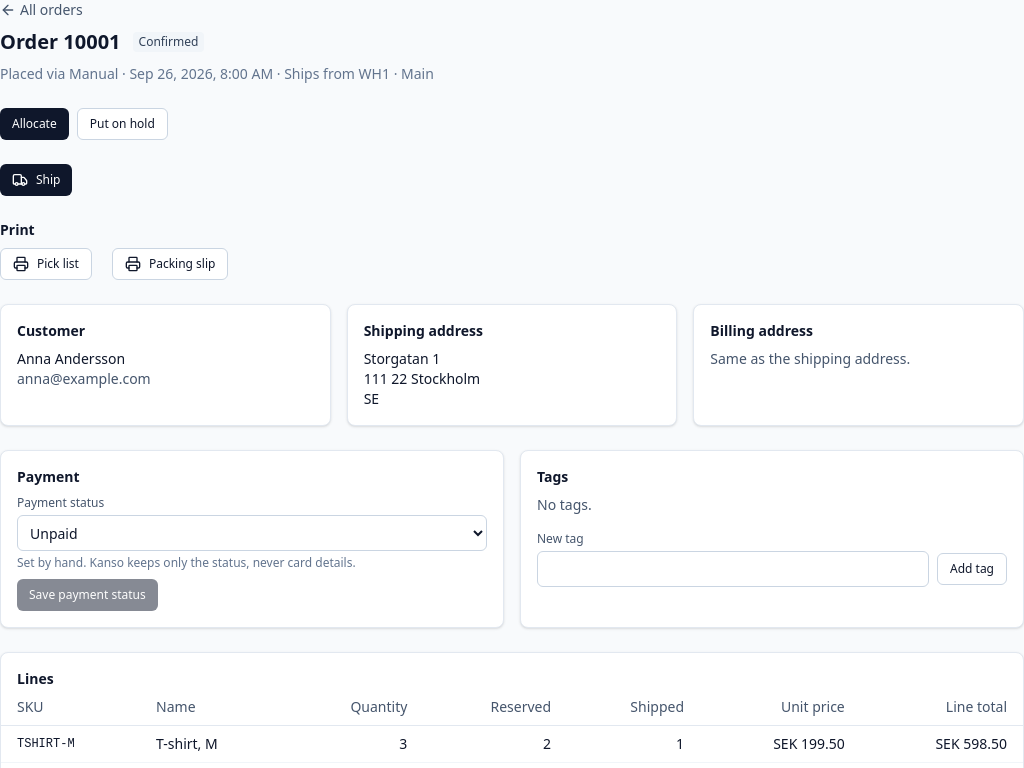
Test: shipping an order › stays open and says so when the order changed meanwhile
Click the button "Ship" at (36, 180), box [0,164,72,196]
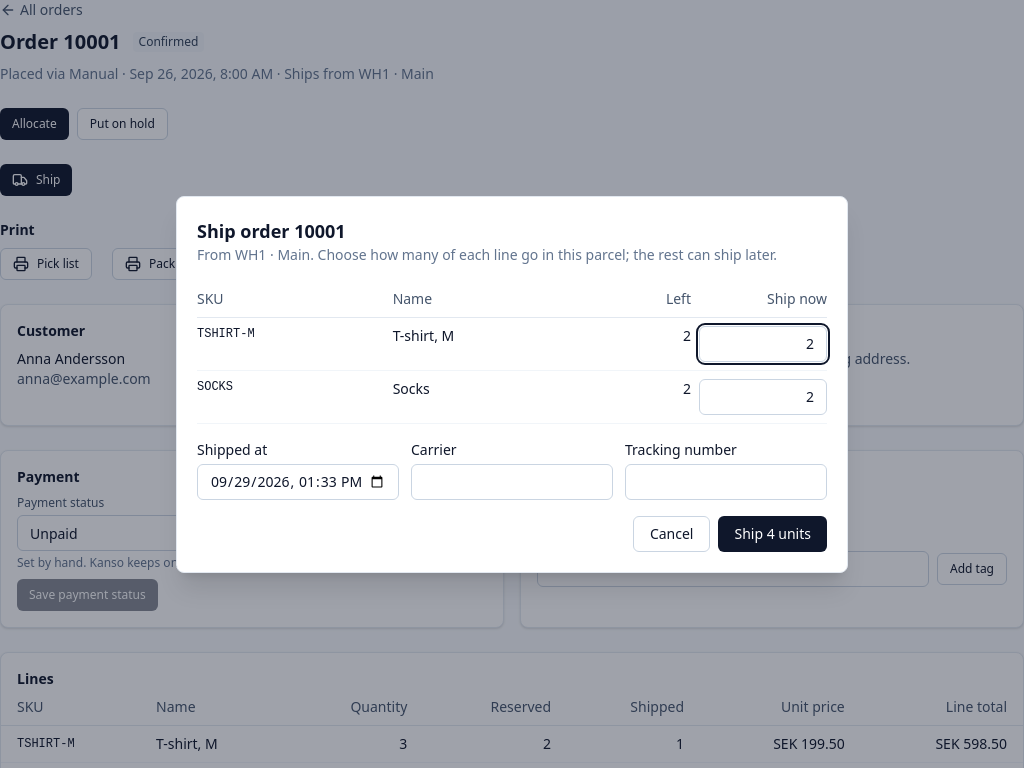
Click the button "Ship 4 units" at (773, 534), box [718,516,827,552]
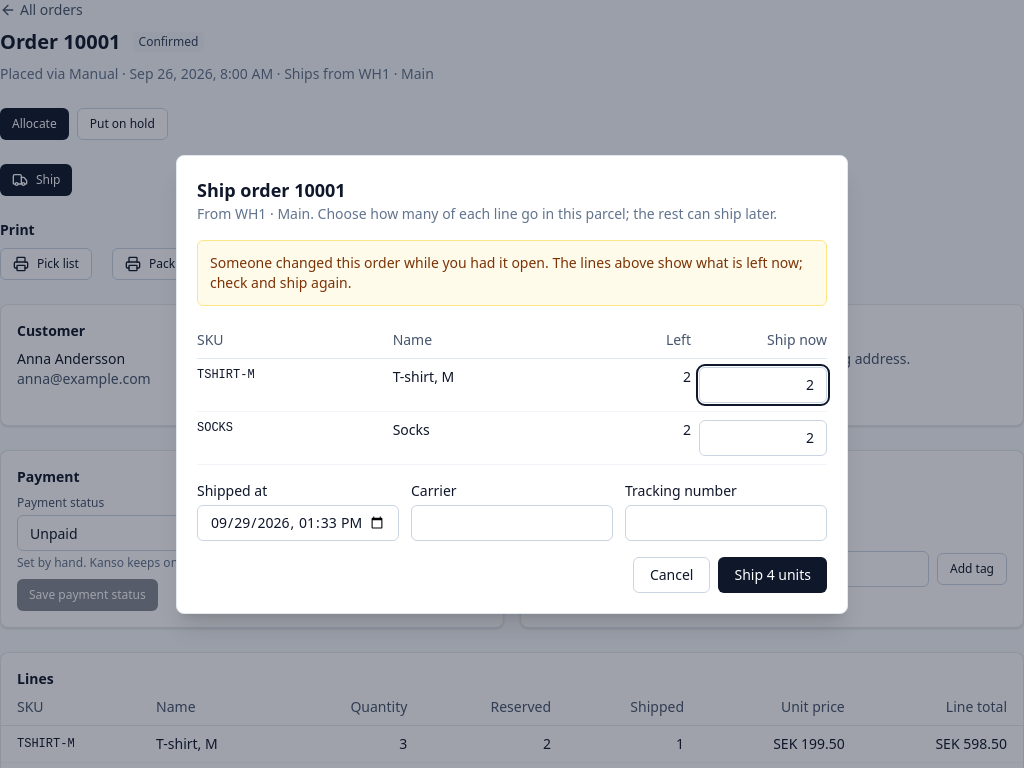
Now the dialog "Ship order 10001" is shown, box [176,154,848,614]
Now the message shows "Someone changed this order", box [210,252,803,292]
